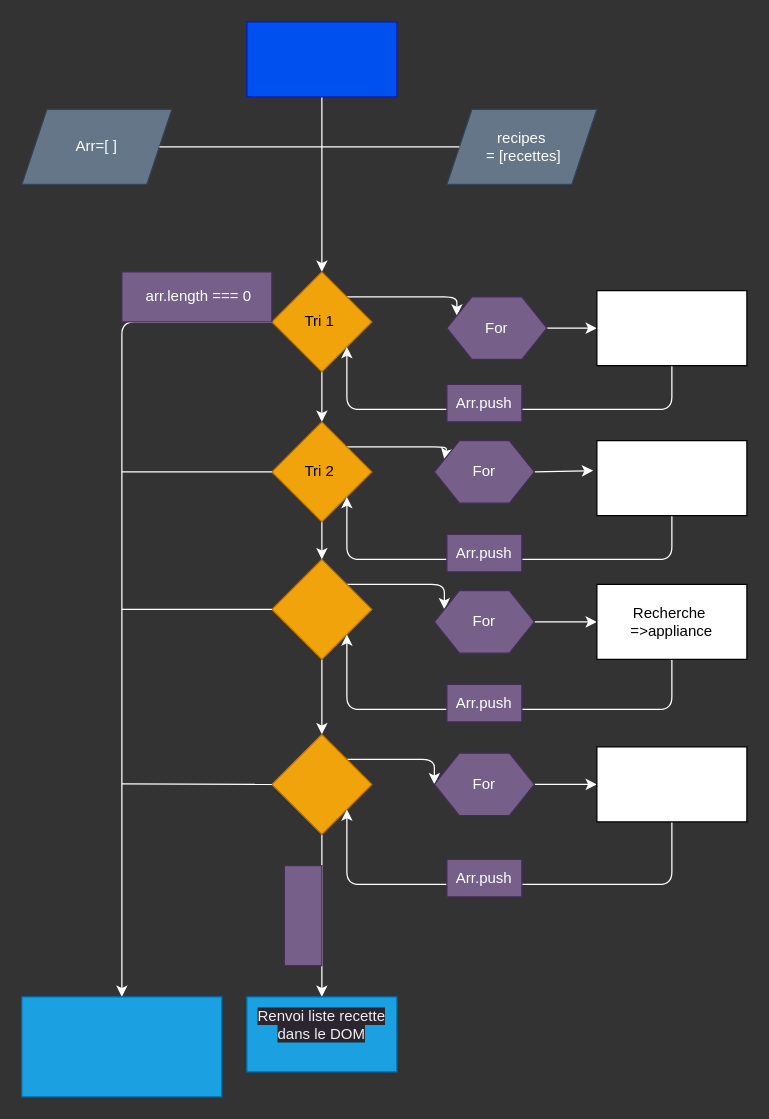
The diagram is 769 pixels wide and 1119 high, and some of its shapes have lost their labels. The centre of each missing label's shape, as x and y in pixels:
arr.length > 0: [302,915]
Recherche: [321,59]
Recherche =>ingrédients: [671,327]
Recherche =>name =>description =>ingrédient: [671,784]
Recherche =>ustensils: [671,477]
Renvoi msg d'erreur "Aucune recette ne correspond à votre critère… ": [121,1046]
Tri 3: [321,608]
Tri 4: [321,783]
